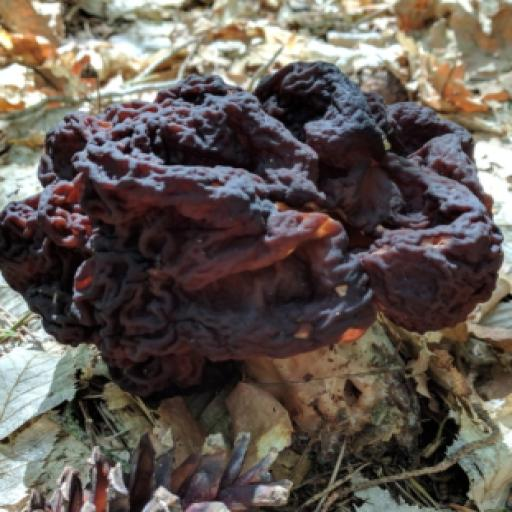False Morel: (0, 0, 512, 487)
